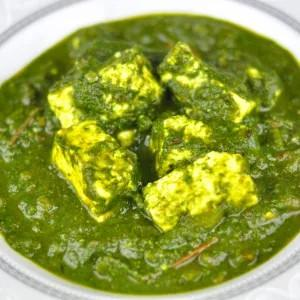PalakPaneer: (0, 13, 300, 293)
